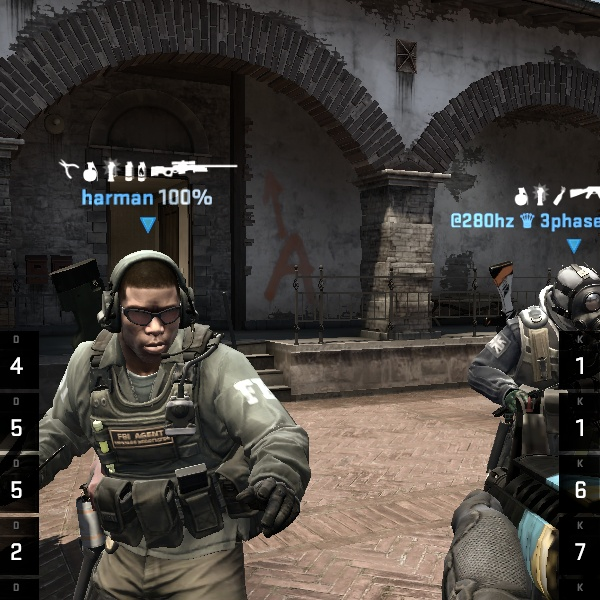ct_body: (14, 244, 279, 594)
ct_head: (84, 243, 211, 363), (539, 254, 599, 328)
